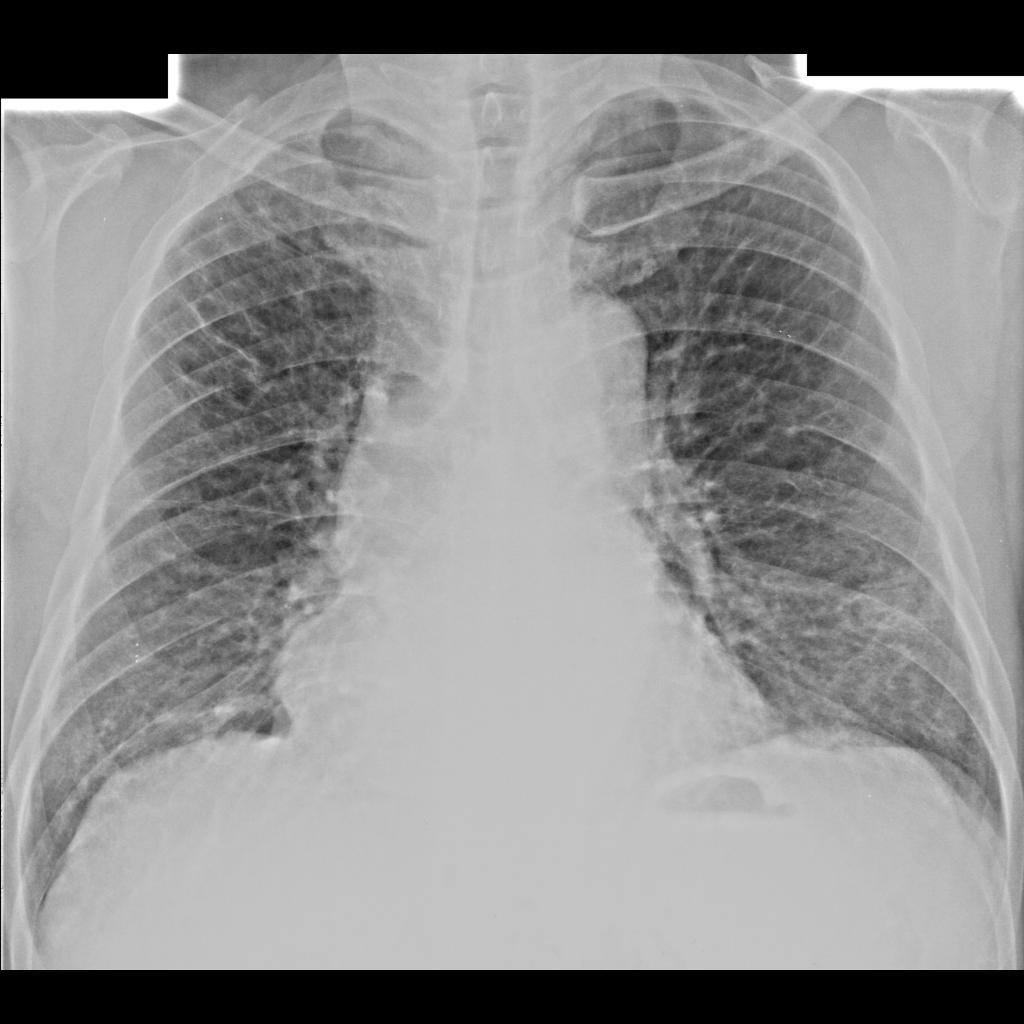Nodule: (860, 576, 920, 636)
